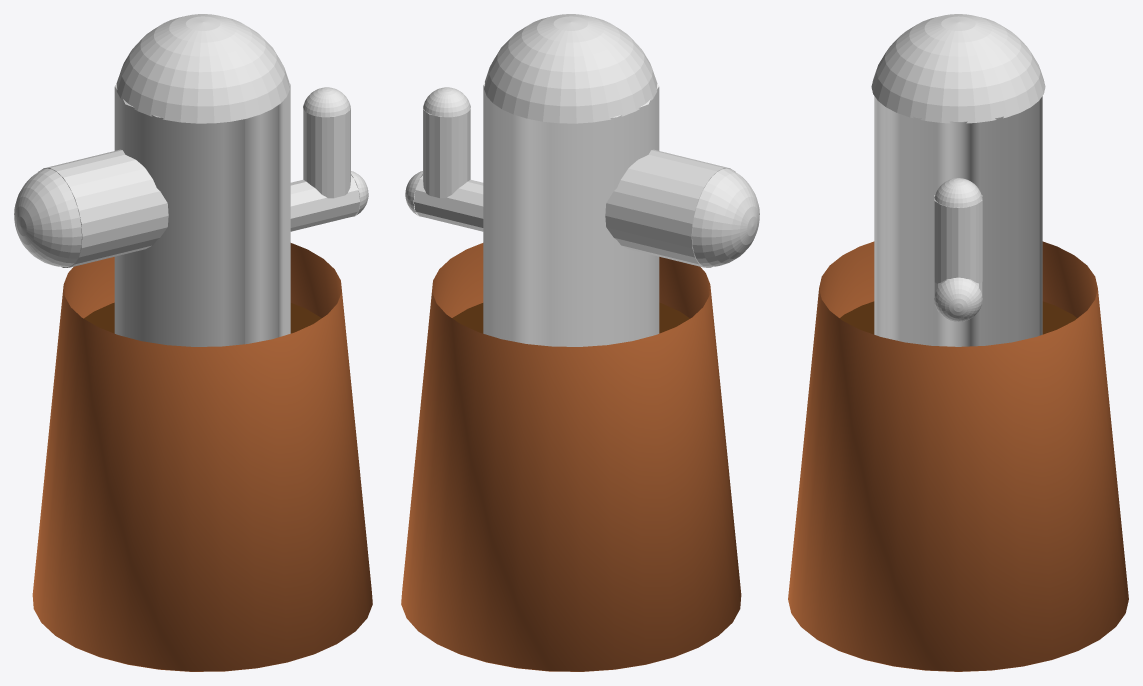
The model's file is Plant.fbx.
3 renders of one model, left to right at view 1: azimuth 30°, elevation 25°; view 2: azimuth 150°, elevation 25°; view 3: azimuth 270°, elevation 25°, orthographic.
Visible parts, largest first — view 1: Cylinder, Cylinder.004, Cylinder.001; view 2: Cylinder, Cylinder.004, Cylinder.001; view 3: Cylinder, Cylinder.004, Cylinder.001.
Boxes of the visible parts, x1=… form: Cylinder: x1=32, y1=243, x2=372, y2=671; Cylinder.004: x1=14, y1=14, x2=368, y2=346; Cylinder.001: x1=84, y1=302, x2=321, y2=333; Cylinder: x1=401, y1=243, x2=741, y2=671; Cylinder.004: x1=405, y1=14, x2=759, y2=346; Cylinder.001: x1=452, y1=302, x2=689, y2=333; Cylinder: x1=788, y1=241, x2=1128, y2=671; Cylinder.004: x1=871, y1=14, x2=1045, y2=346; Cylinder.001: x1=839, y1=301, x2=1077, y2=334.
Bounding box in the file's own units: 29.17 × 46.85 × 25.01.
